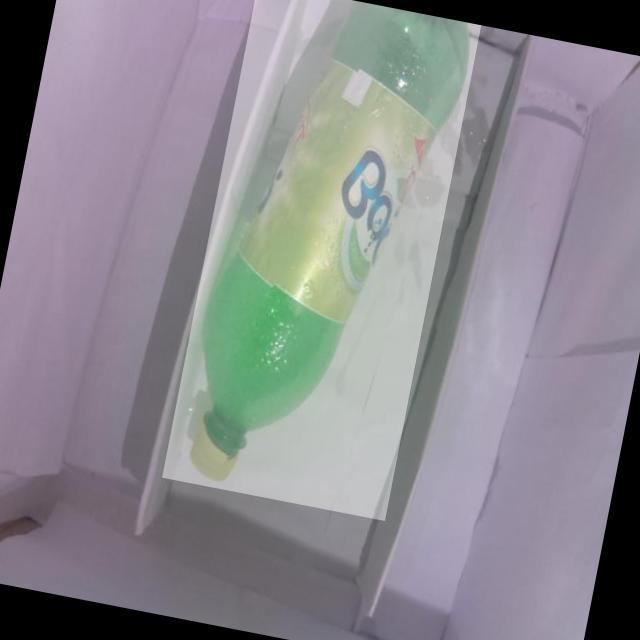good: (162, 0, 481, 521)
